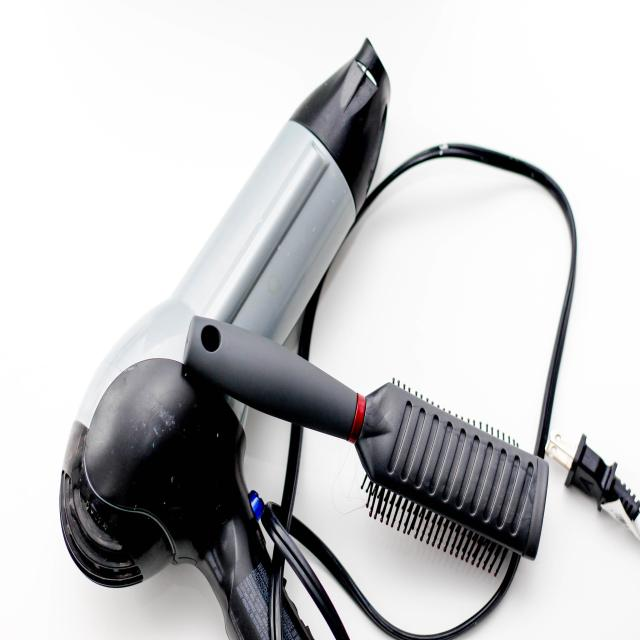dryer: (57, 34, 392, 640)
